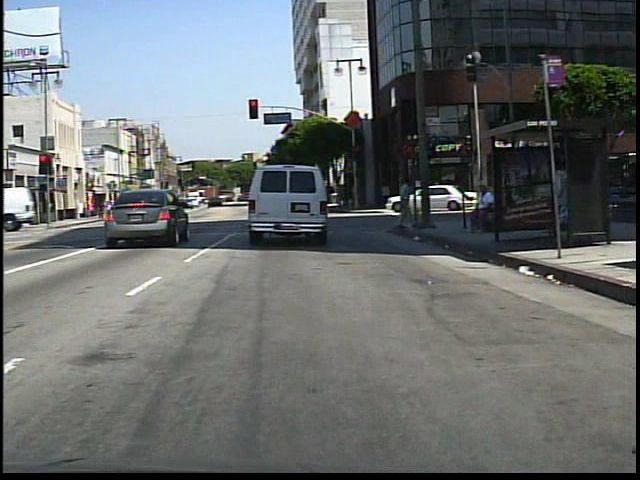person: (469, 183, 499, 237), (393, 174, 419, 233), (104, 193, 118, 219)
